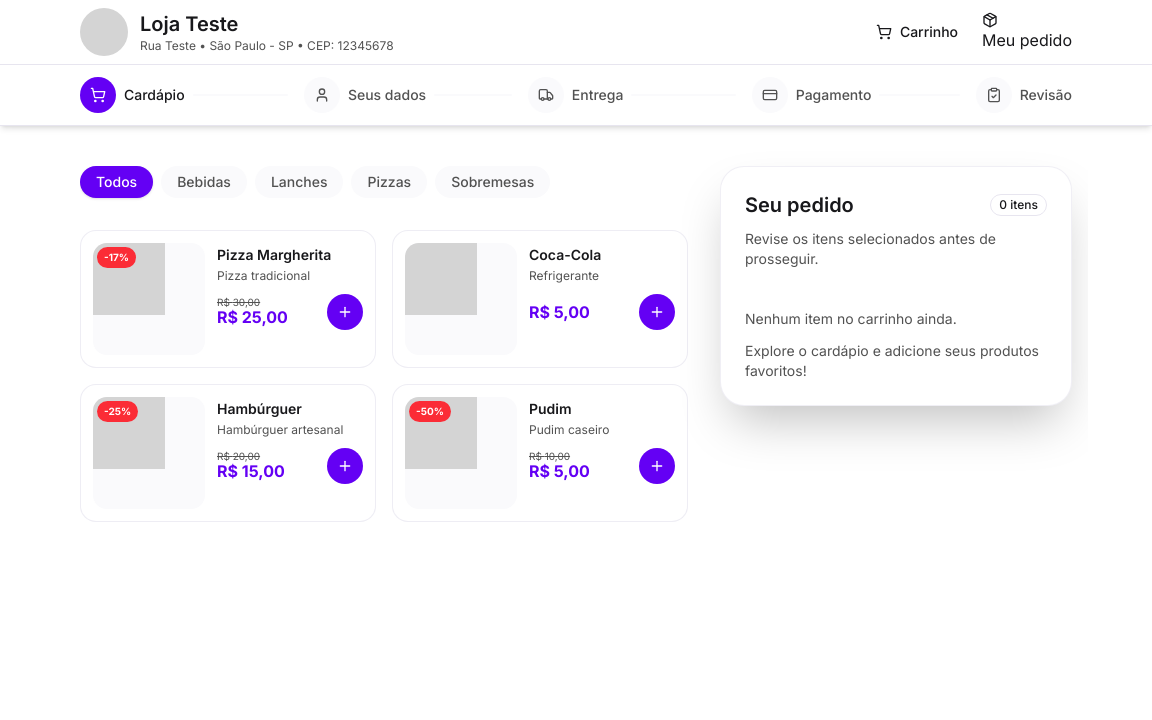
Test: PublicStorePage - Categorias › deve filtrar produtos ao clicar em uma categoria
Check: the text "Pizza Margherita" is shown, box [217,246,331,263]
// Clicar na aba de Bebidas
What coordinates should you click on to do the following:
click the button "Bebidas"
I would click on:
 (204, 182)
Its box is [161,166,247,198].
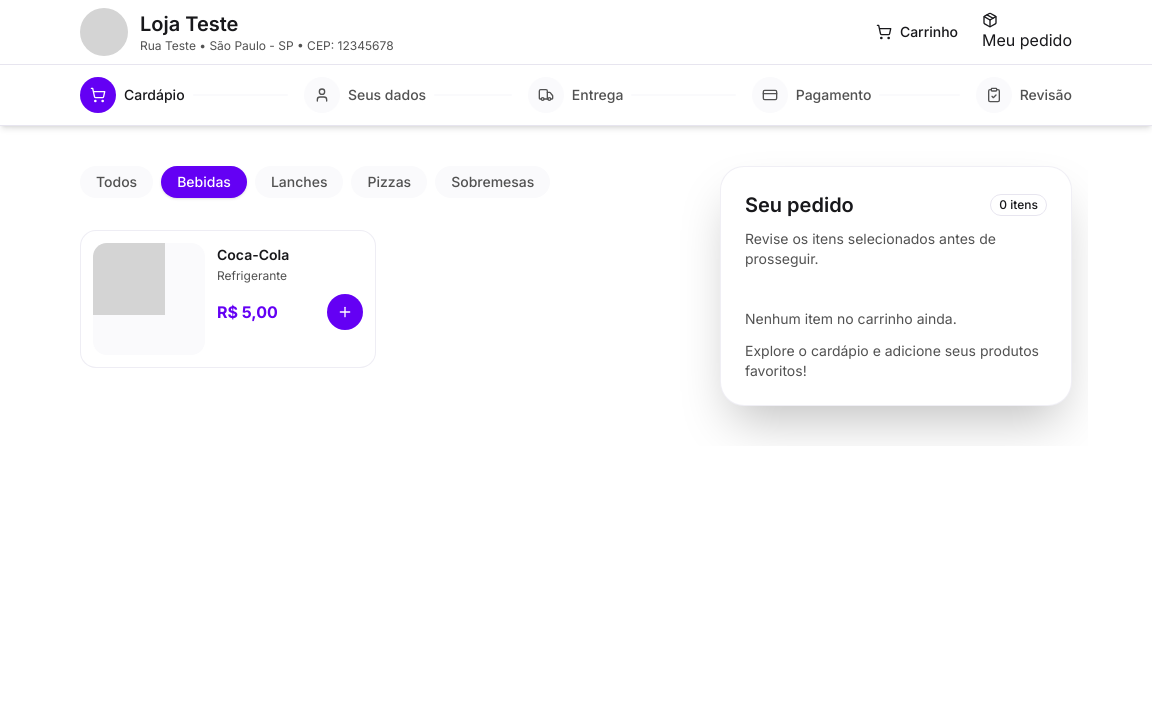
Check: the text "Coca-Cola" is shown, box [217,246,289,263]
Check: the button "Pizza Margherita" is gone
